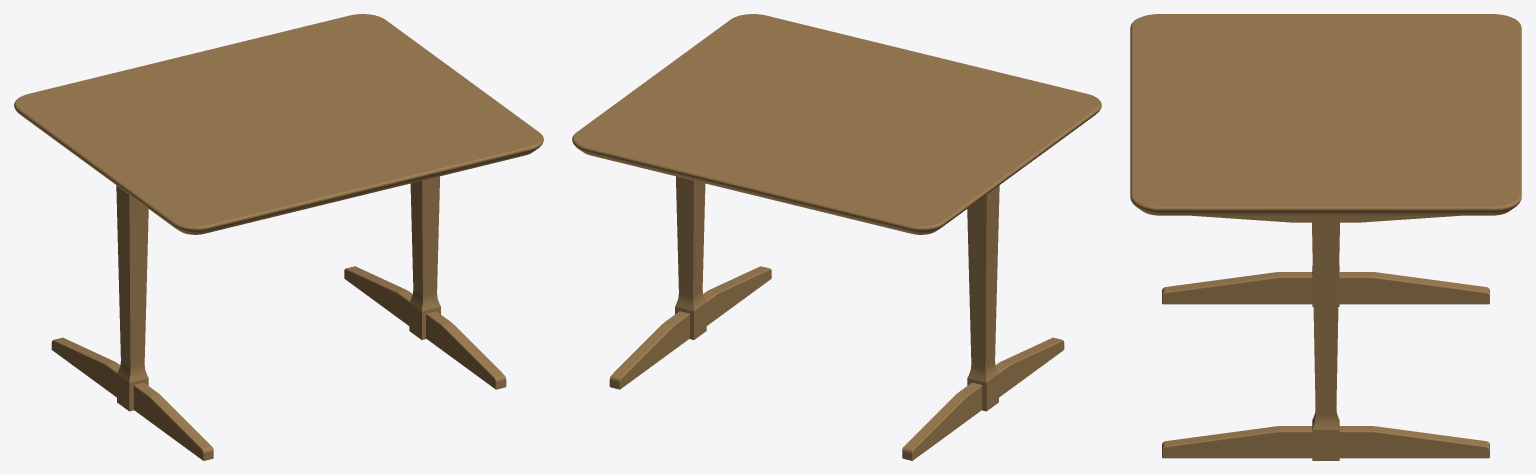
The model's file is 549_ダイニングテーブル2人掛け.glb.
3 views of the same model, side by side, from view 1: azimuth 30°, elevation 25°; view 2: azimuth 150°, elevation 25°; view 3: azimuth 270°, elevation 25° (orthographic). The views are drawn at different scales.
Parts seen in each view (by area): view 1: Body; view 2: Body; view 3: Body.
Part boxes in pixels (x1,y1,x2,y2): Body: (14,14,543,460); Body: (572,14,1101,460); Body: (1130,14,1521,460).
Size of the model in its own units: 1.01 by 0.65 by 0.8581.
